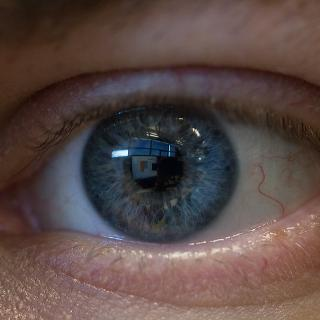pupil: (127, 134, 184, 191)
